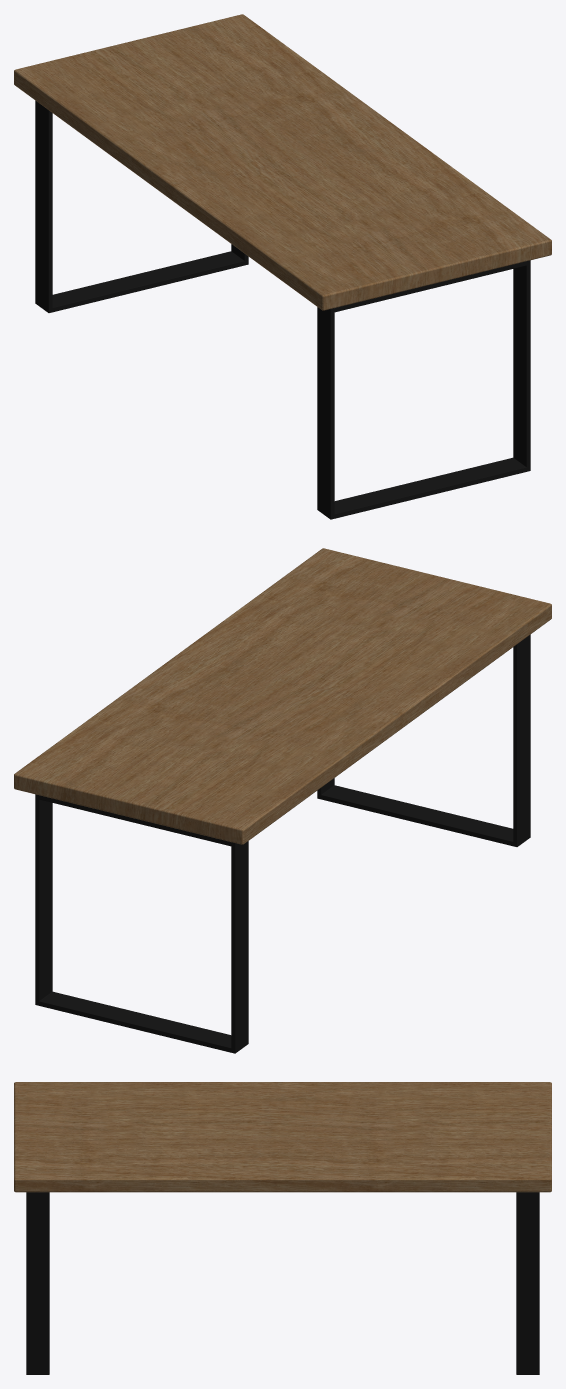
Rendered from dining_table_wood_with_black_metal.glb.
3 renders of one model, top to bottom at view 1: azimuth 30°, elevation 25°; view 2: azimuth 150°, elevation 25°; view 3: azimuth 270°, elevation 25°, orthographic. The views are drawn at different scales.
Parts seen in each view (by area): view 1: Table top_1, Table legs_2; view 2: Table top_1, Table legs_2; view 3: Table top_1, Table legs_2.
Boxes of the visible parts, x1,y1,x2,y2 form: Table top_1: (14,14,551,310); Table legs_2: (35,100,530,519); Table top_1: (14,548,551,844); Table legs_2: (35,634,530,1053); Table top_1: (14,1082,551,1192); Table legs_2: (26,1192,539,1374).
Size of the model in its own units: 0.8009 by 0.7743 by 1.87.
Materials: 2 (1 with a texture image).
